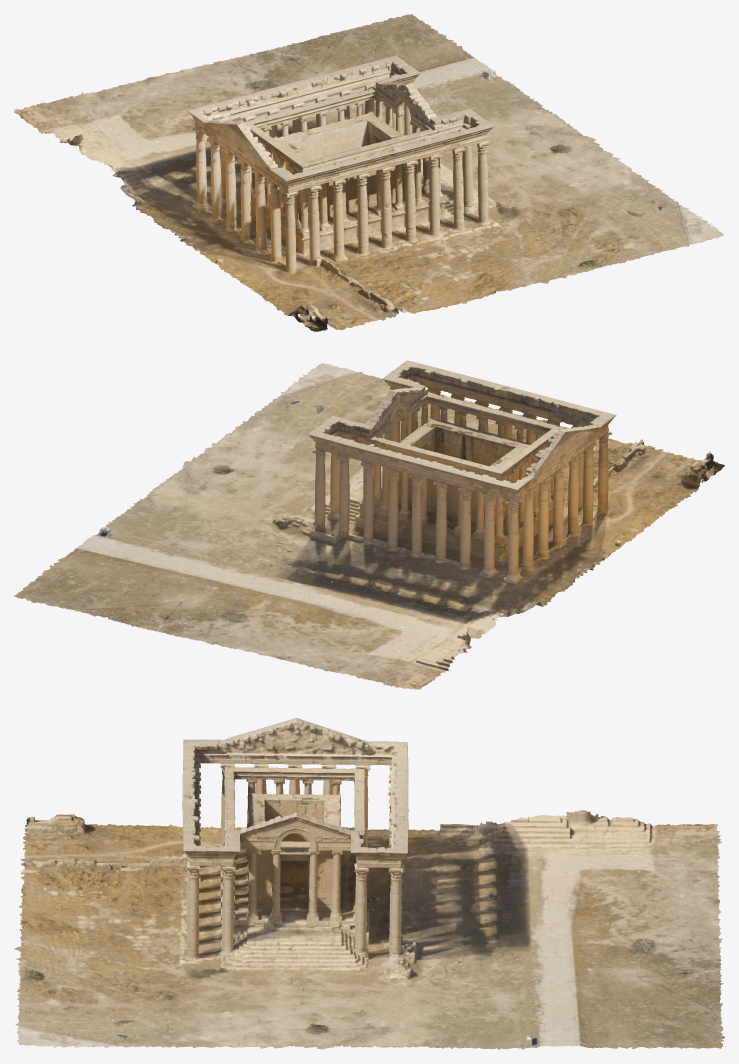
Rendered from greek_temple_scan.glb.
3 renders of one model, top to bottom at view 1: azimuth 30°, elevation 25°; view 2: azimuth 150°, elevation 25°; view 3: azimuth 270°, elevation 25°, orthographic. The views are drawn at different scales.
Parts seen in each view (by area): view 1: _gltfNode_2_0; view 2: _gltfNode_2_0; view 3: _gltfNode_2_0.
Boxes of the visible parts, x1,y1,x2,y2 form: _gltfNode_2_0: [14, 14, 724, 331]; _gltfNode_2_0: [14, 360, 724, 689]; _gltfNode_2_0: [14, 718, 724, 1049].
Bounding box in the file's own units: 40.36 × 11.12 × 53.1.
Materials: 1 (1 with a texture image).
